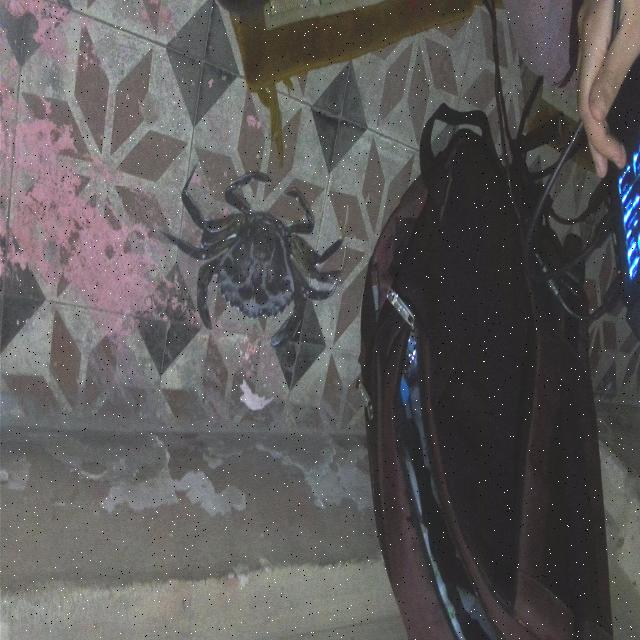European_Green_Crab: (173, 155, 347, 358)
